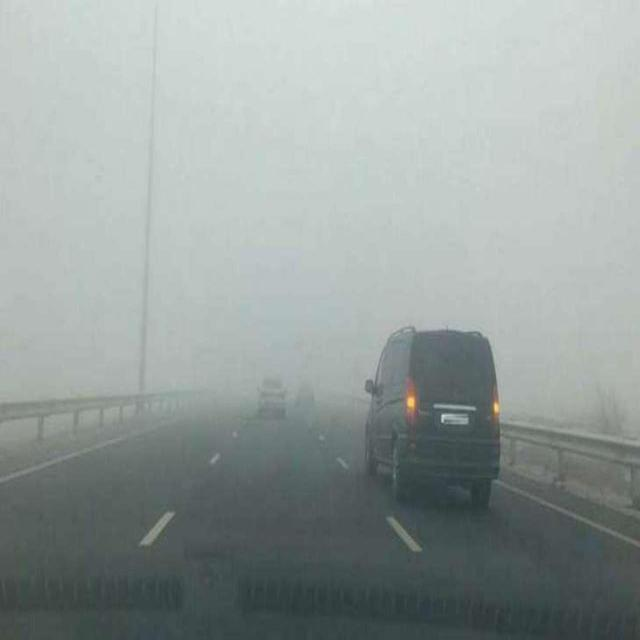Car: (352, 299, 506, 505), (290, 359, 316, 426), (256, 361, 283, 420)
